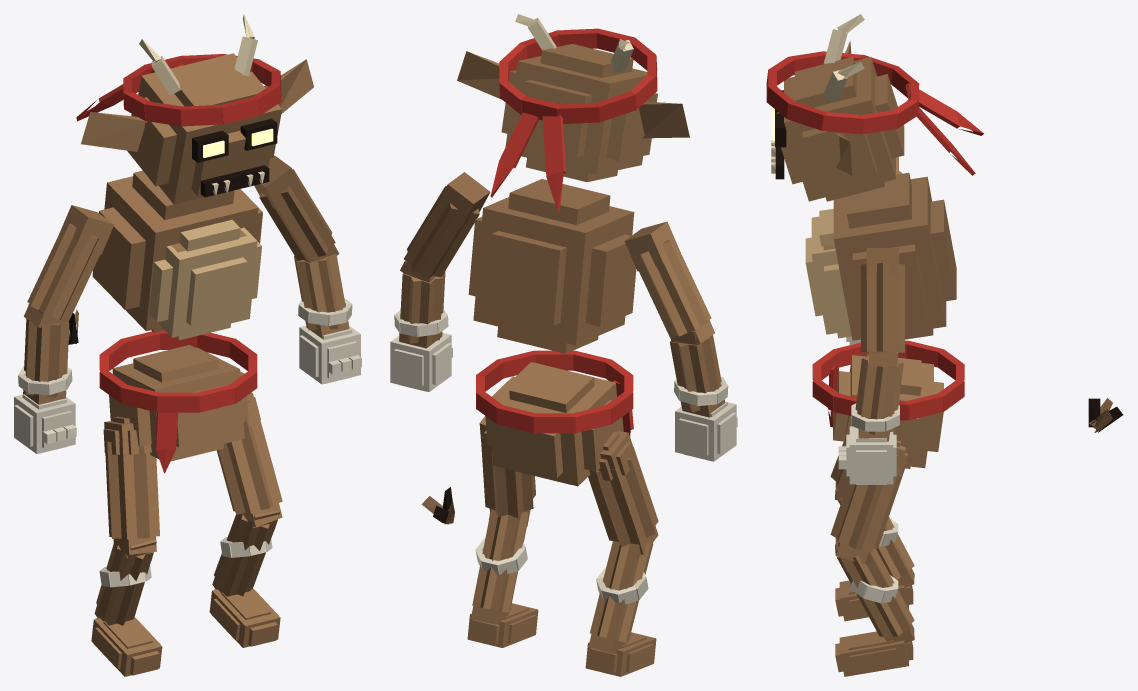
The picture shows the model from 3 angles, left to right: view 1: azimuth 30°, elevation 25°; view 2: azimuth 150°, elevation 25°; view 3: azimuth 270°, elevation 25°; orthographic projection. The views are drawn at different scales.
Parts seen in each view (by area): view 1: RookieImp; view 2: RookieImp; view 3: RookieImp.
Boxes of the visible parts, box(x1,y1,x2,y2) form: RookieImp: box(14, 14, 361, 676); RookieImp: box(390, 14, 737, 676); RookieImp: box(766, 14, 1123, 676).
Size of the model in its own units: 0.7204 by 1.3 by 0.6994.
